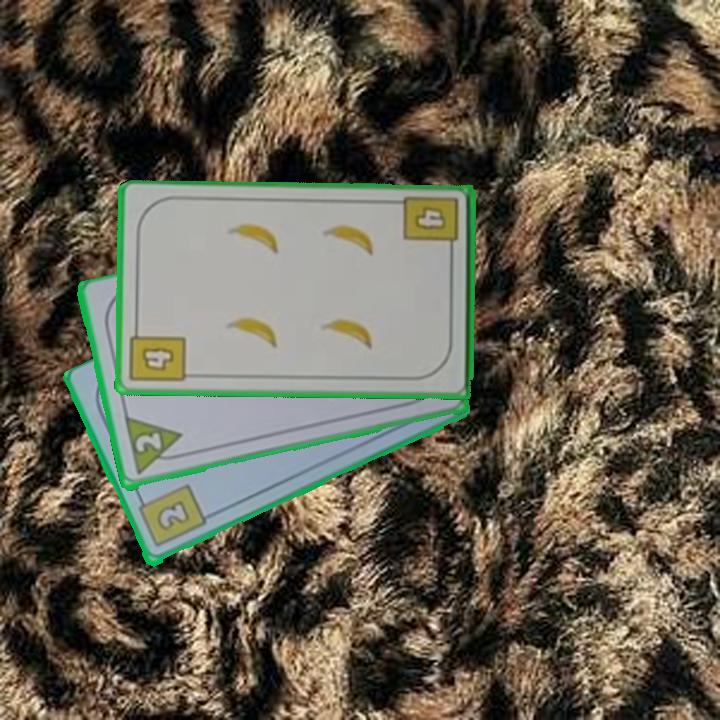2b: (134, 481, 209, 551)
2p: (120, 414, 189, 479)
4b: (127, 321, 188, 386), (401, 193, 462, 258)
